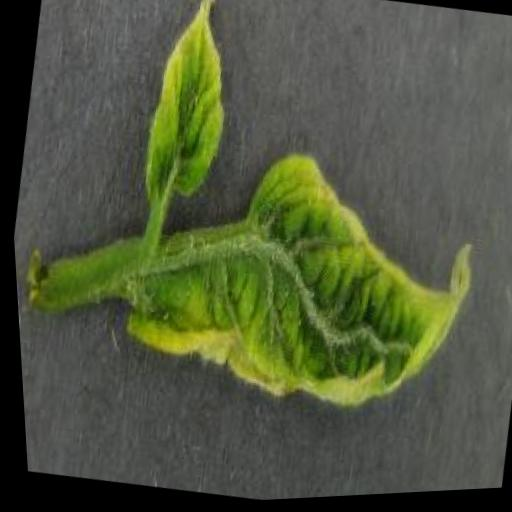Yellow Leaf Curl Virus: (99, 118, 493, 438), (126, 0, 248, 210)
